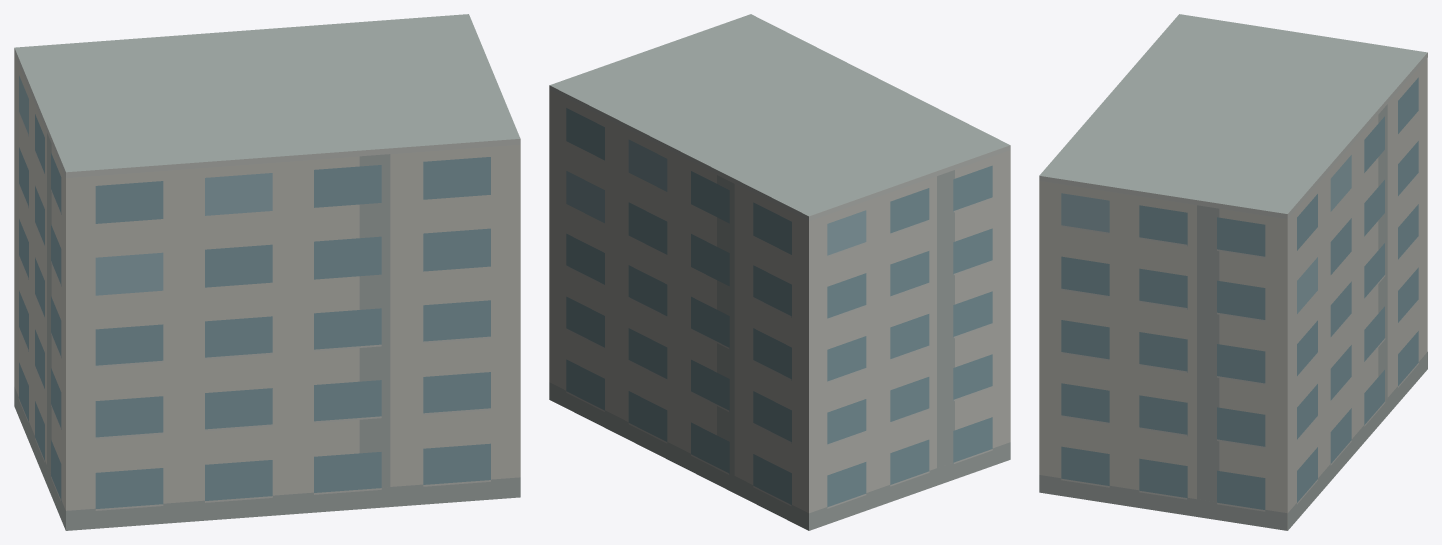
Rendered from residential-6fd389ea-a56d-4504-b272-85dce513385c.glb.
3 views of the same model, side by side, from view 1: azimuth 30°, elevation 25°; view 2: azimuth 150°, elevation 25°; view 3: azimuth 270°, elevation 25° (orthographic). The views are drawn at different scales.
Visible parts, largest first — view 1: residential-6fd389ea-a56d-4504-b272-85dce513385c.tmp; view 2: residential-6fd389ea-a56d-4504-b272-85dce513385c.tmp; view 3: residential-6fd389ea-a56d-4504-b272-85dce513385c.tmp.
Part boxes in pixels (bbox=[...]): residential-6fd389ea-a56d-4504-b272-85dce513385c.tmp: bbox=[14, 14, 520, 530]; residential-6fd389ea-a56d-4504-b272-85dce513385c.tmp: bbox=[549, 14, 1010, 530]; residential-6fd389ea-a56d-4504-b272-85dce513385c.tmp: bbox=[1039, 14, 1427, 530].
Bounding box in the file's own units: 20.68 × 15.25 × 16.97.
